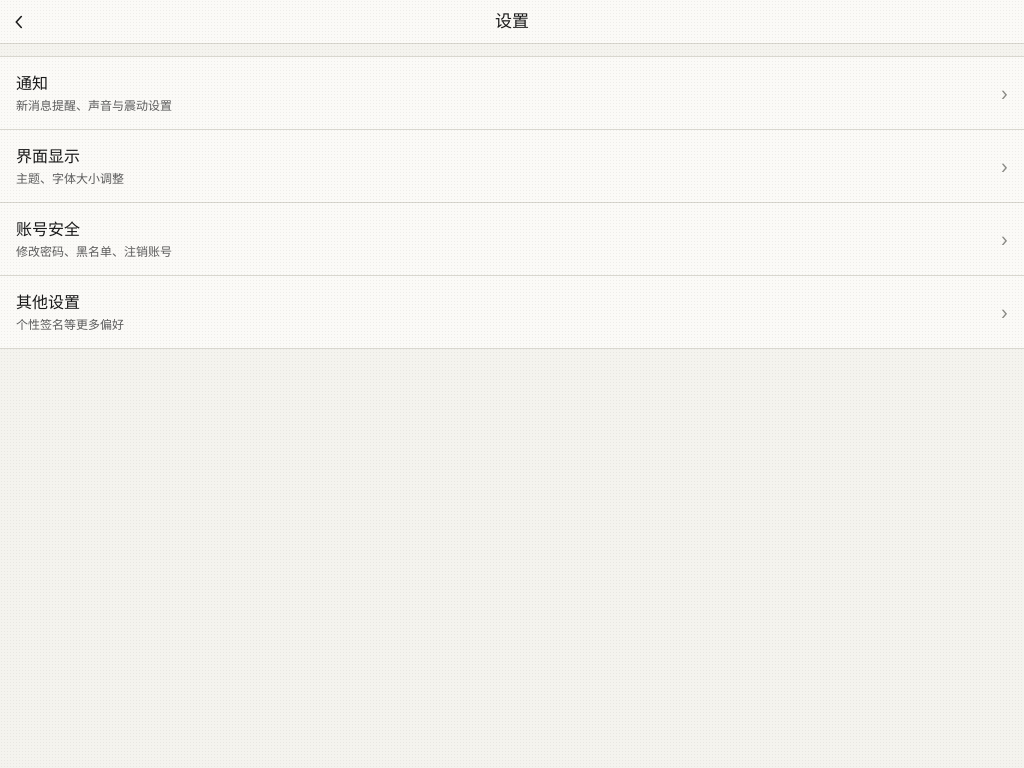
Test: Settings 设置页 › 新通知默认收起并可展开二级设置
Click the button "通知 新消息提醒、声音与震动设置 ›" at (32, 83), box [0,57,1023,129]
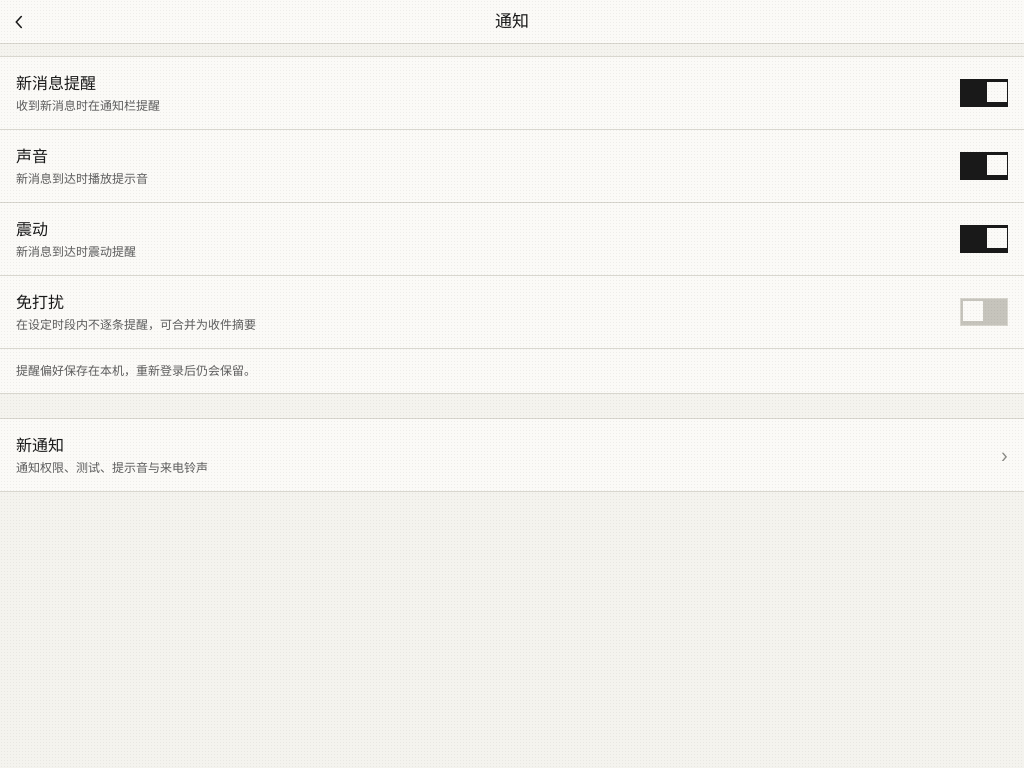
Click the button with test id "settings-notify-more-toggle" at (40, 445), box [0,419,1023,491]
(page scrolled)
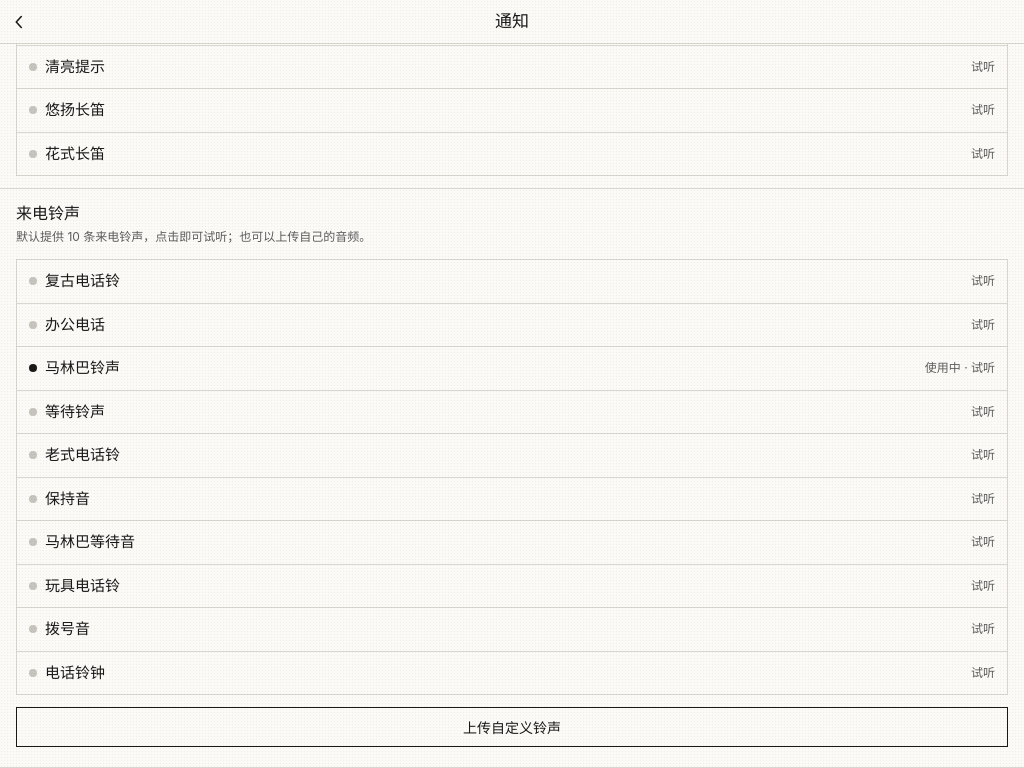
Check: the element with test id "settings-ringtone-list" is shown
